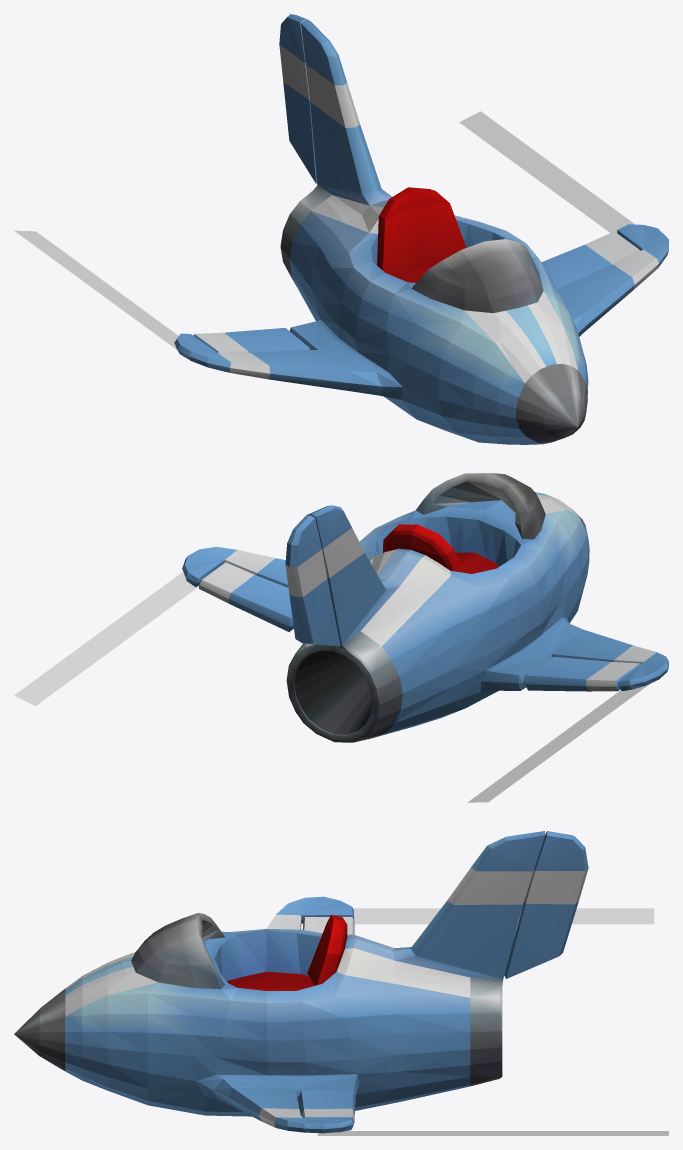
Rendered from Airplane_becca.glb.
The picture shows the model from 3 angles, top to bottom: view 1: azimuth 30°, elevation 25°; view 2: azimuth 150°, elevation 25°; view 3: azimuth 270°, elevation 25°; orthographic projection. The views are drawn at different scales.
Parts seen in each view (by area): view 1: airplane, Trail1, Trail2; view 2: airplane, Trail1, Trail2; view 3: airplane, Trail2, Trail1.
Part boxes in pixels (x1,y1,x2,y2): airplane: (174,14,668,444); Trail1: (459,111,635,232); Trail2: (14,230,178,349); airplane: (182,473,668,742); Trail1: (14,572,198,705); Trail2: (467,684,649,802); airplane: (14,831,588,1133); Trail2: (353,908,654,924); Trail1: (317,1131,668,1135).
Bounding box in the file's own units: 0.9179 × 0.5135 × 1.11.
